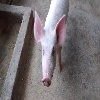heo: (32, 9, 63, 89)
